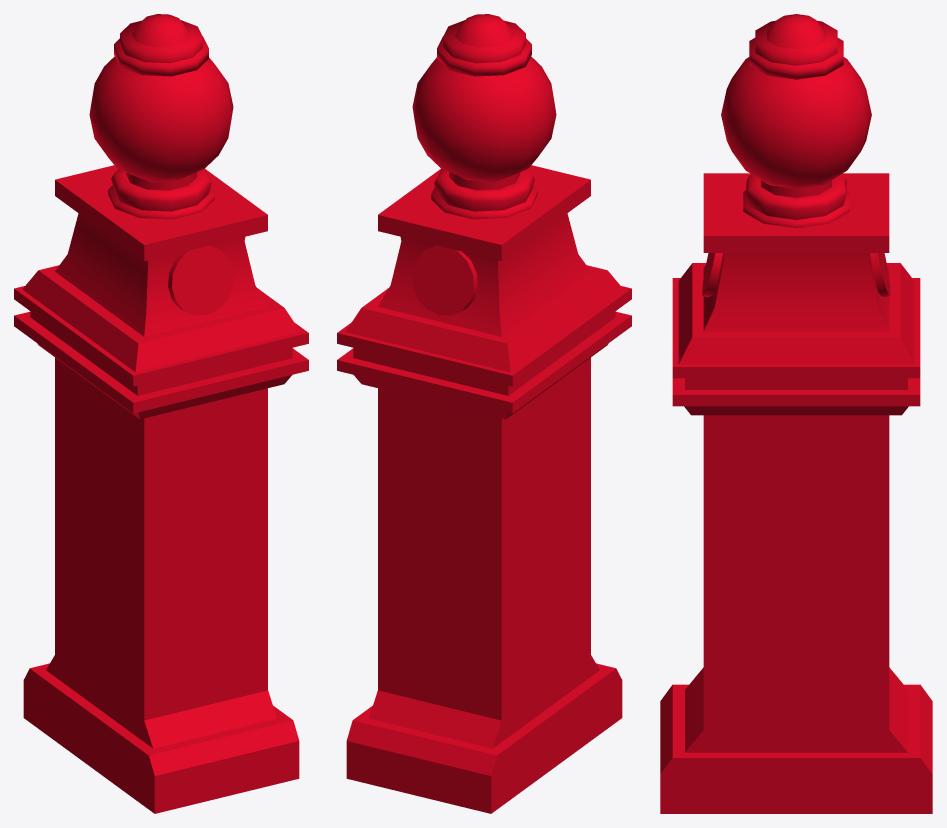
The model's file is SM_doorfront_head.fbx.
The picture shows the model from 3 angles, left to right: view 1: azimuth 30°, elevation 25°; view 2: azimuth 150°, elevation 25°; view 3: azimuth 270°, elevation 25°; orthographic projection. The views are drawn at different scales.
Visible parts, largest first — view 1: SM_doorfront_head; view 2: SM_doorfront_head; view 3: SM_doorfront_head.
Boxes of the visible parts, x1,y1,x2,y2 form: SM_doorfront_head: [14, 14, 308, 813]; SM_doorfront_head: [337, 14, 631, 813]; SM_doorfront_head: [660, 14, 932, 813].
Bounding box in the file's own units: 34 × 135 × 44.
